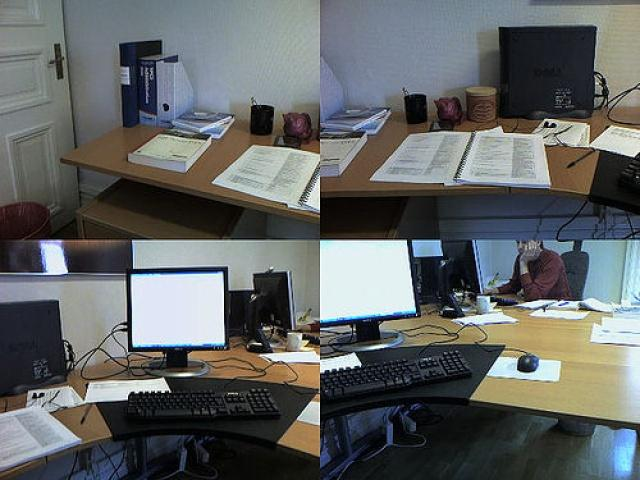AIO PC-Monitor-TV: (124, 265, 230, 352)
